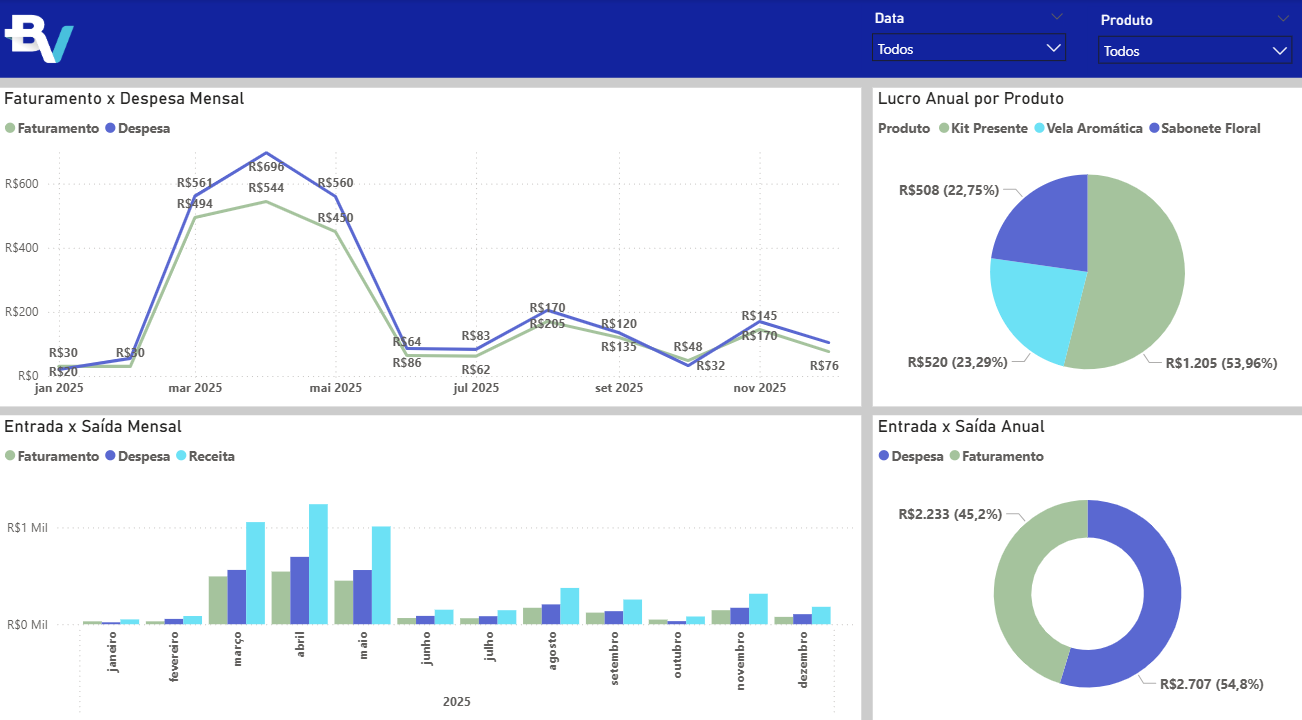

The page's visual inventory and layout, read from the dashboard file:
{"tool":"powerbi","page":{"name":"Dashboard de Vendas","canvas":[1280,720],"ordinal":0},"visuals":[{"type":"lineChart","title":"Faturamento x Despesa Mensal","fields":{"Y":["Sum(Lançamentos Diários.Lucro)","Sum(Lançamentos Diários.Custo Total)"],"Category":["Lançamentos Diários.Data.Variation.Hierarquia de datas.Ano","Lançamentos Diários.Data.Variation.Hierarquia de datas.Mês"]},"box":[0,87.1,846.6,312.9],"z":0},{"type":"donutChart","title":"Entrada x Saída Anual","fields":{"Y":["Sum(Lançamentos Diários.Custo Total)","Sum(Lançamentos Diários.Lucro)"]},"box":[857.9,409.1,422.1,301.8],"z":1000},{"type":"clusteredColumnChart","title":"Entrada x Saída Mensal","fields":{"Y":["Sum(Lançamentos Diários.Lucro)","Sum(Lançamentos Diários.Custo Total)","Sum(Lançamentos Diários.Receita)"],"Category":["Lançamentos Diários.Data.Variation.Hierarquia de datas.Ano","Lançamentos Diários.Data.Variation.Hierarquia de datas.Mês"]},"box":[0,408.6,846.6,303.1],"z":2000},{"type":"shape","box":[0,0,1279.8,77.3],"z":3000},{"type":"slicer","fields":{"Values":["Lançamentos Diários.Produto"]},"box":[1068.7,7.4,211,67.5],"z":4000},{"type":"slicer","fields":{"Values":["Lançamentos Diários.Data.Variation.Hierarquia de datas.Ano"]},"box":[846.6,4.9,211,67.5],"z":5000},{"type":"image","box":[0,0,79.8,77.3],"z":6000},{"type":"pieChart","title":"Lucro Anual por Produto","fields":{"Y":["Sum(Lançamentos Diários.Lucro)"],"Category":["Lançamentos Diários.Produto"]},"box":[857.7,87.1,422.1,312.9],"z":7000}]}

Visuals, with their boxes in screenshot pixels (x1, y1, x2, y2), scaled from the page's 1280x720 canvas onto the 1302x720 screenshot:
"Faturamento x Despesa Mensal" lineChart: l=0, t=87, r=861, b=400
"Entrada x Saída Anual" donutChart: l=873, t=409, r=1301, b=711
"Entrada x Saída Mensal" clusteredColumnChart: l=0, t=409, r=861, b=712
shape: l=0, t=0, r=1301, b=77
slicer - Lançamentos Diários.Produto: l=1087, t=7, r=1301, b=75
slicer - Lançamentos Diários.Data.Variation.Hierarquia de datas.Ano: l=861, t=5, r=1076, b=72
image: l=0, t=0, r=81, b=77
"Lucro Anual por Produto" pieChart: l=872, t=87, r=1301, b=400
